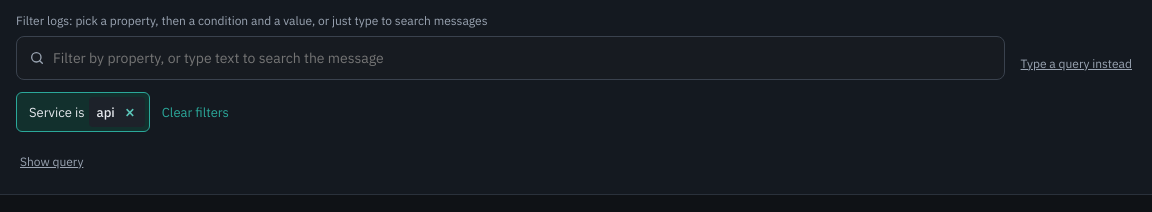
Test case: FilterBar › keeps the query behind Show query, with the match count
The width and height of the screenshot is (1152, 212).
Expected: the text "service:api" is not shown
Step 1. Click the button "Show query" → x=52, y=161, box [16,144,87,178]
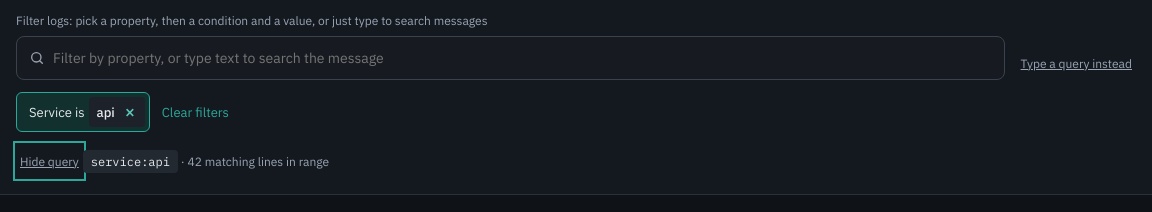
Result: the text "service:api" is shown at [83,150,178,172]
Result: the text "Hide query service:api · 42 matching lines in range" is shown at [16,144,329,178]
